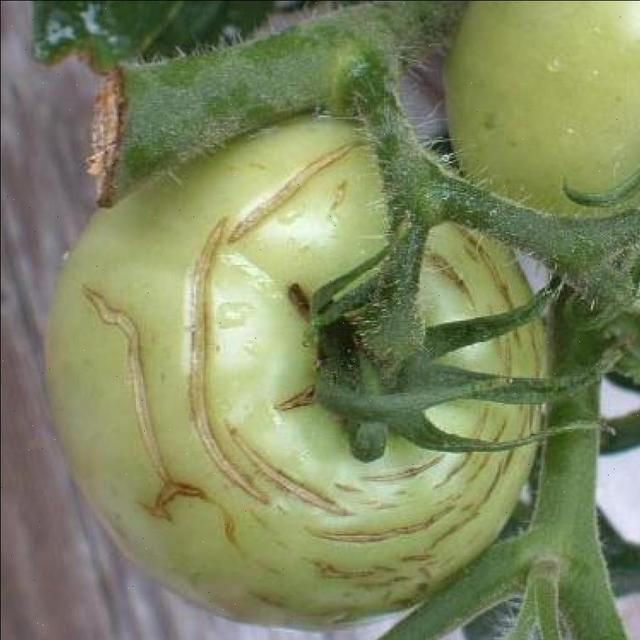Cracking Fruit: (40, 23, 330, 369)
